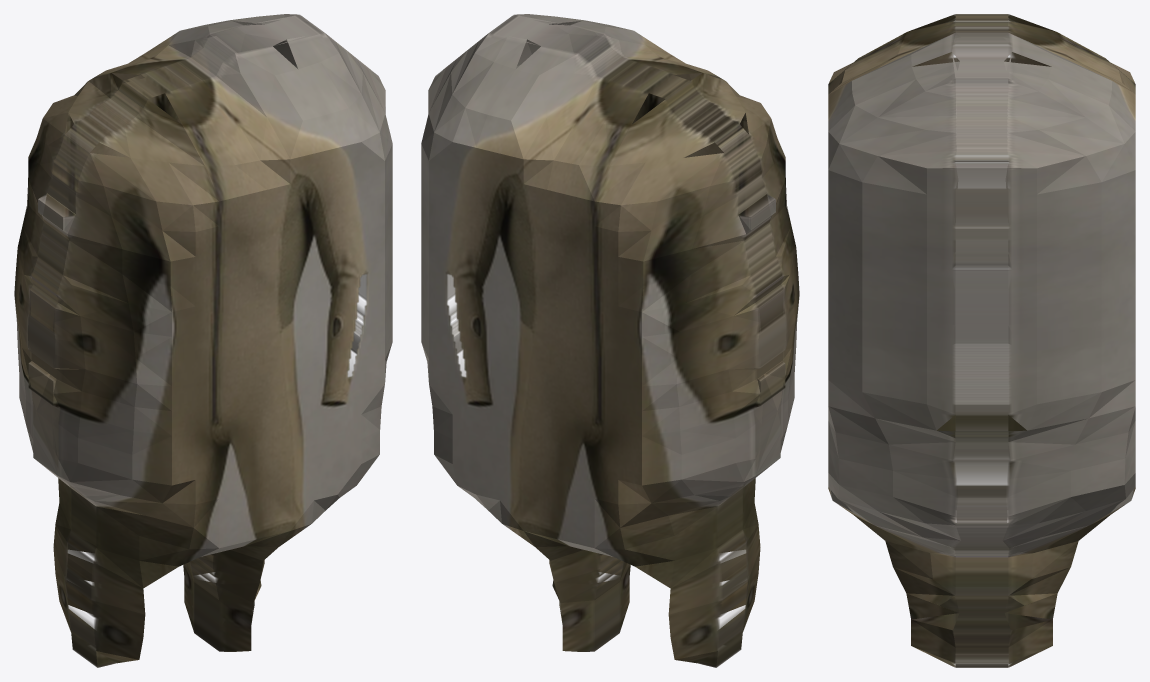
The model's file is cardo-vantage-base-layer-040.glb.
The picture shows the model from 3 angles, left to right: view 1: azimuth 30°, elevation 25°; view 2: azimuth 150°, elevation 25°; view 3: azimuth 270°, elevation 25°; orthographic projection. The views are drawn at different scales.
Parts seen in each view (by area): view 1: world; view 2: world; view 3: world.
Part boxes in pixels (left/top/right/bottom): world: left=14, top=14, right=392, bottom=667; world: left=421, top=14, right=799, bottom=667; world: left=828, top=14, right=1135, bottom=667.
Size of the model in its own units: 0.5691 by 1 by 0.44.
Materials: 1 (1 with a texture image).
